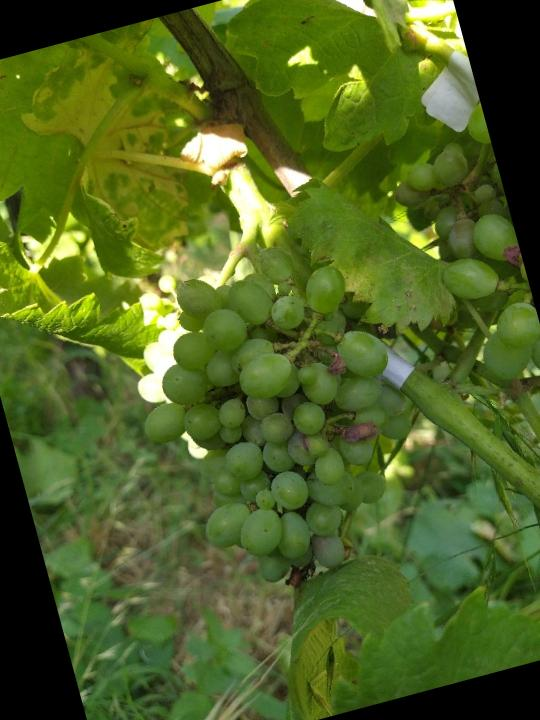grape: (103, 220, 445, 614)
